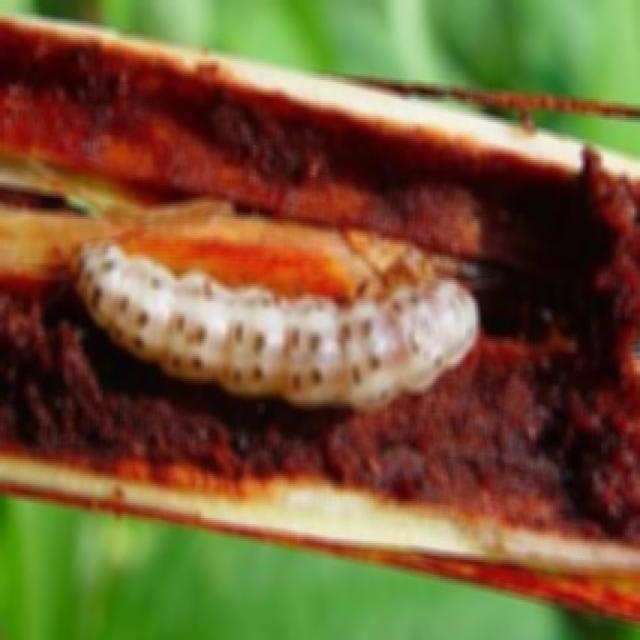peach borer: (72, 233, 482, 410)
